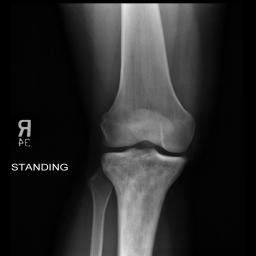cancer: (102, 154, 186, 256)
